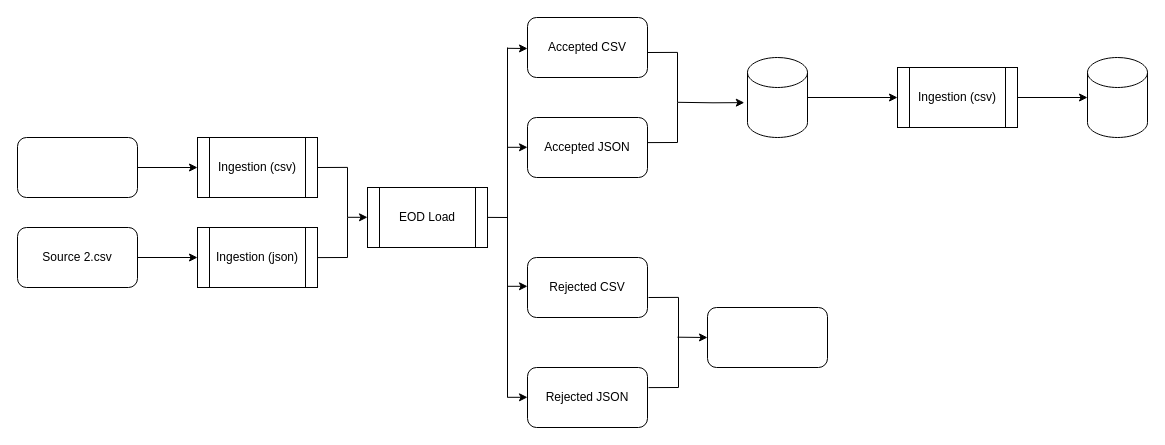
The diagram is 1165 pixels wide and 445 high, and some of its shapes have lost their labels. The centre of each missing label's shape, as x and y in pixels:
EOD Trade Quote: (x=777, y=97)
quote-trade-analytical: (x=1117, y=97)
Rejected Files: (x=767, y=337)
Source 1.csv: (x=77, y=167)
